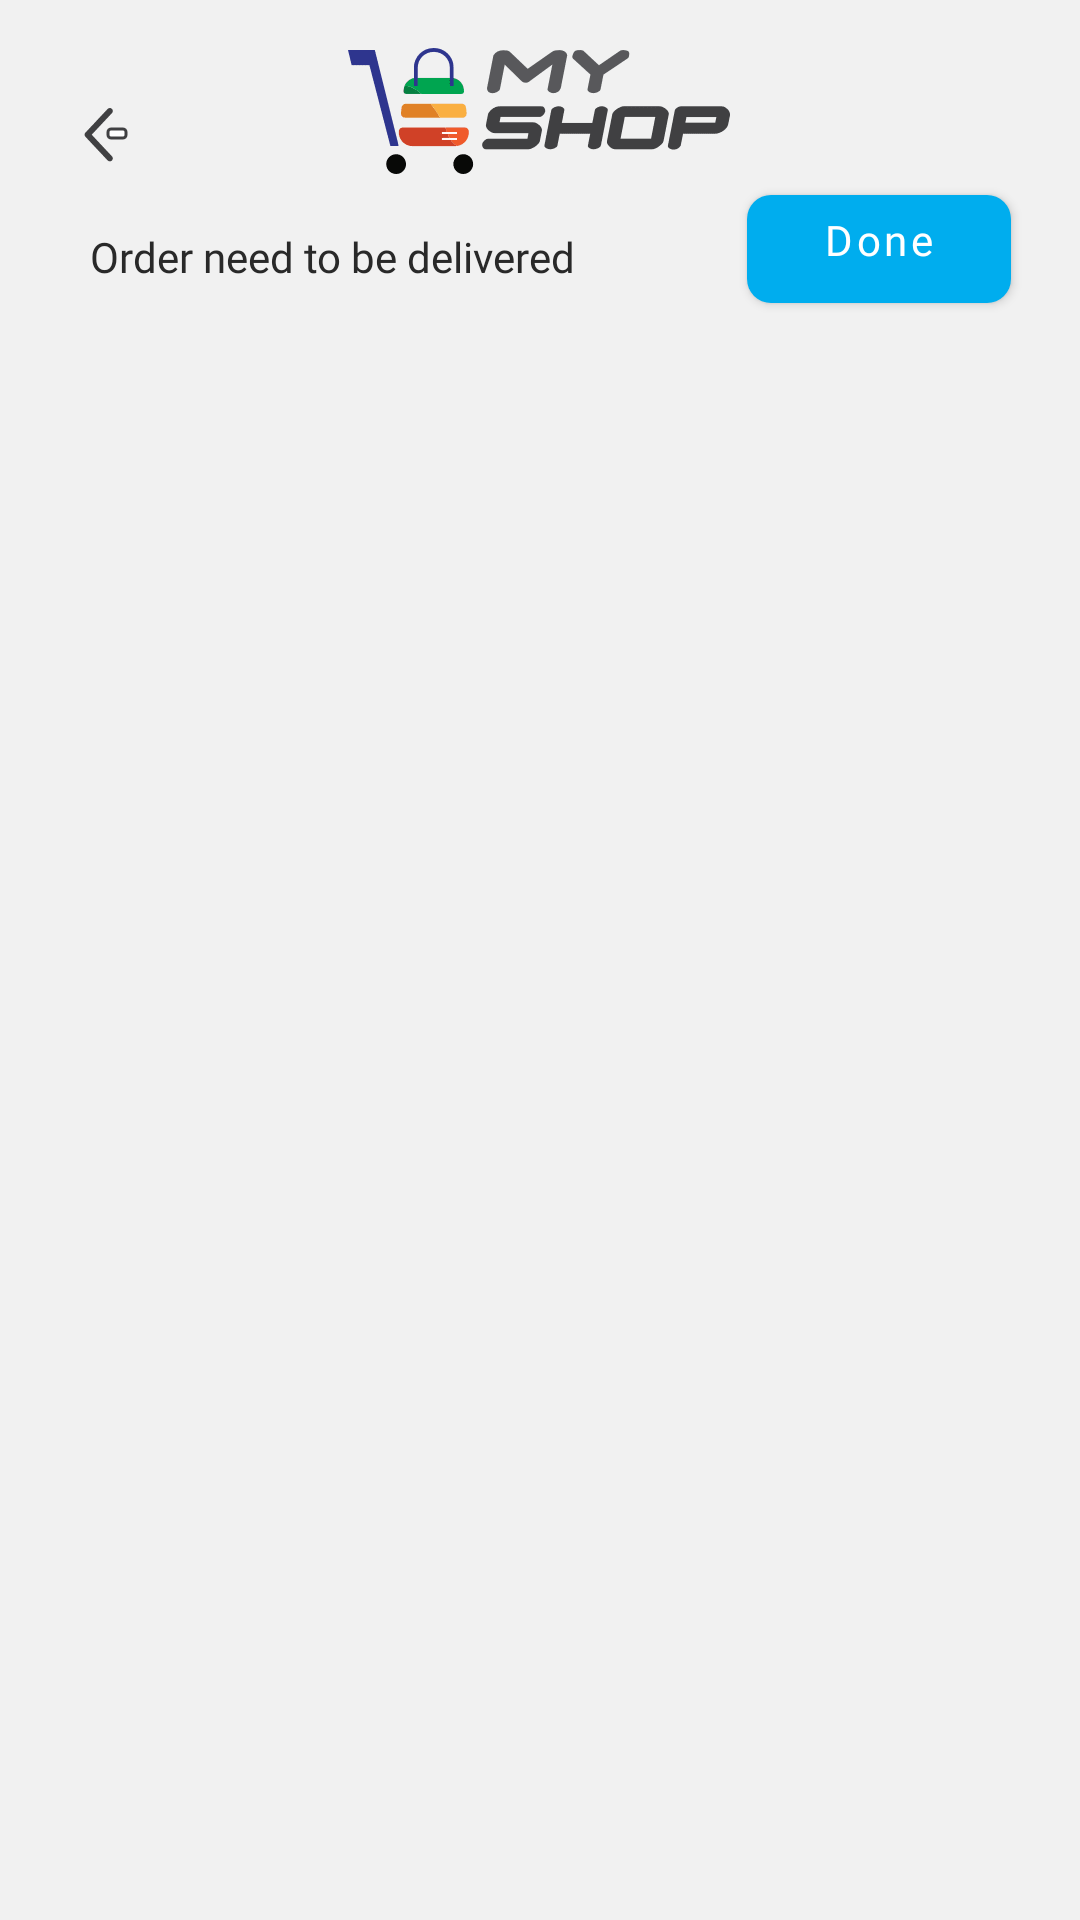

Where icons sit on this 1080px x 1920px app screen, as box=[x1, y1, x2, y2]:
back arrow: box=[84, 108, 128, 162]
